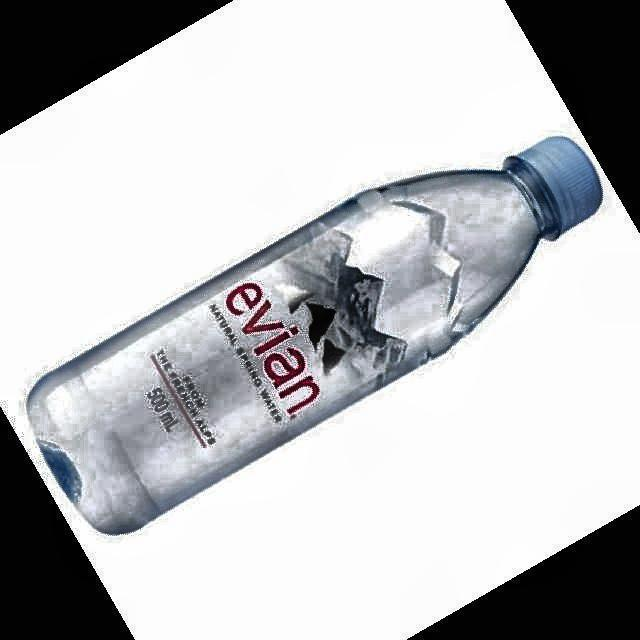plastic: (28, 138, 601, 534)
